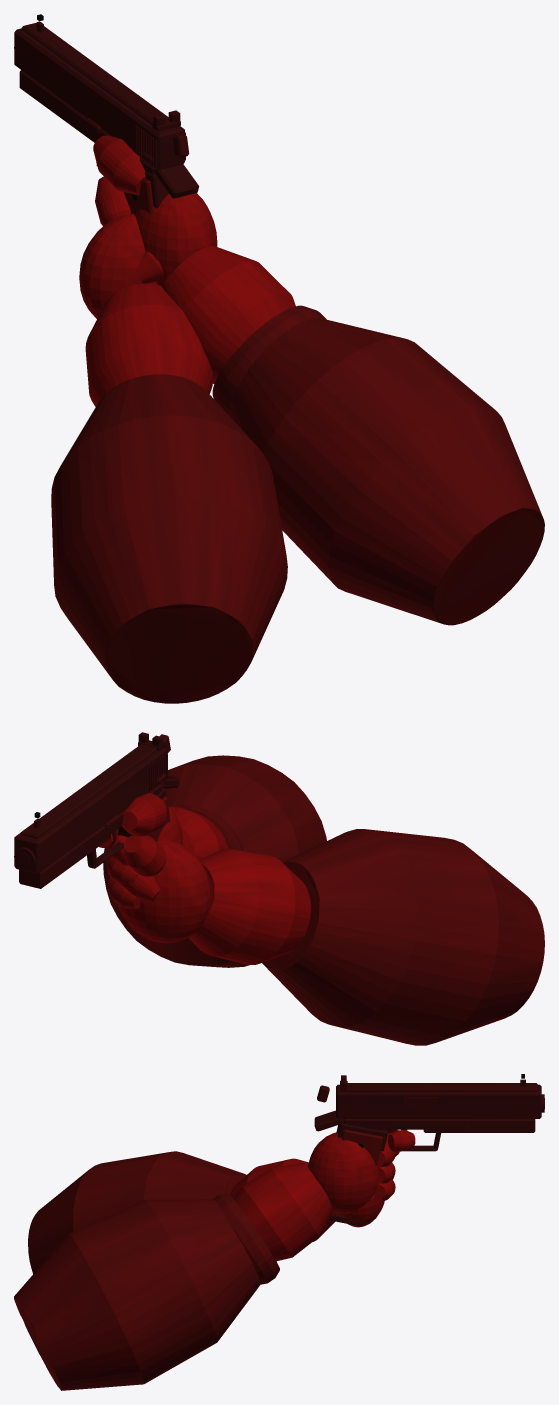
The model's file is m1911_viewmodel.glb.
3 renders of one model, top to bottom at view 1: azimuth 30°, elevation 25°; view 2: azimuth 150°, elevation 25°; view 3: azimuth 270°, elevation 25°, orthographic. The views are drawn at different scales.
Parts seen in each view (by area): view 1: ArmsMesh, ActionMesh, Frame; view 2: ArmsMesh, ActionMesh, Frame; view 3: ArmsMesh, ActionMesh, Frame.
Part boxes in pixels (x1,y1,x2,y2): ArmsMesh: (51,135,544,703); ActionMesh: (14,21,185,170); Frame: (19,70,199,284); ArmsMesh: (99,755,544,1045); ActionMesh: (14,732,167,873); Frame: (19,734,179,888); ArmsMesh: (14,1129,415,1390); ActionMesh: (336,1075,544,1118); Frame: (314,1085,535,1167).
Size of the model in its own units: 0.3651 by 0.3343 by 0.5475.
